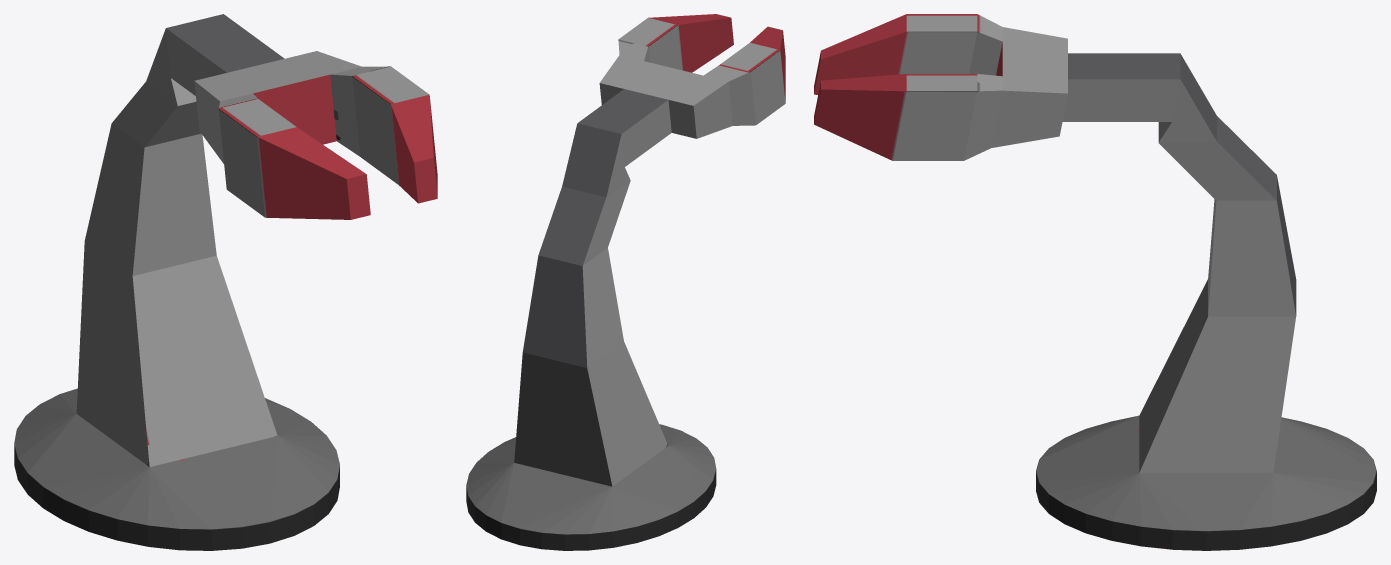
File: robo_4.fbx
3 views of the same model, side by side, from view 1: azimuth 30°, elevation 25°; view 2: azimuth 150°, elevation 25°; view 3: azimuth 270°, elevation 25° (orthographic). The views are drawn at different scales.
Parts seen in each view (by area): view 1: 円柱; view 2: 円柱; view 3: 円柱.
Part boxes in pixels (left/top/right/bottom): 円柱: left=14, top=14, right=437, bottom=550; 円柱: left=466, top=14, right=785, bottom=550; 円柱: left=814, top=14, right=1376, bottom=550.
Size of the model in its own units: 82.78 by 141 by 164.
1 material, 1 textured.
